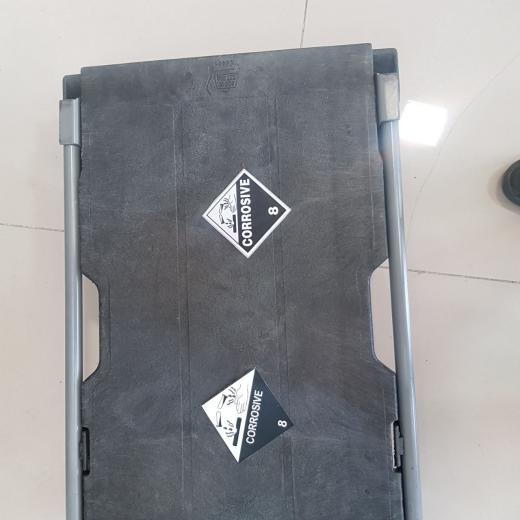Corrosive: (201, 368, 294, 464), (202, 168, 292, 259)
